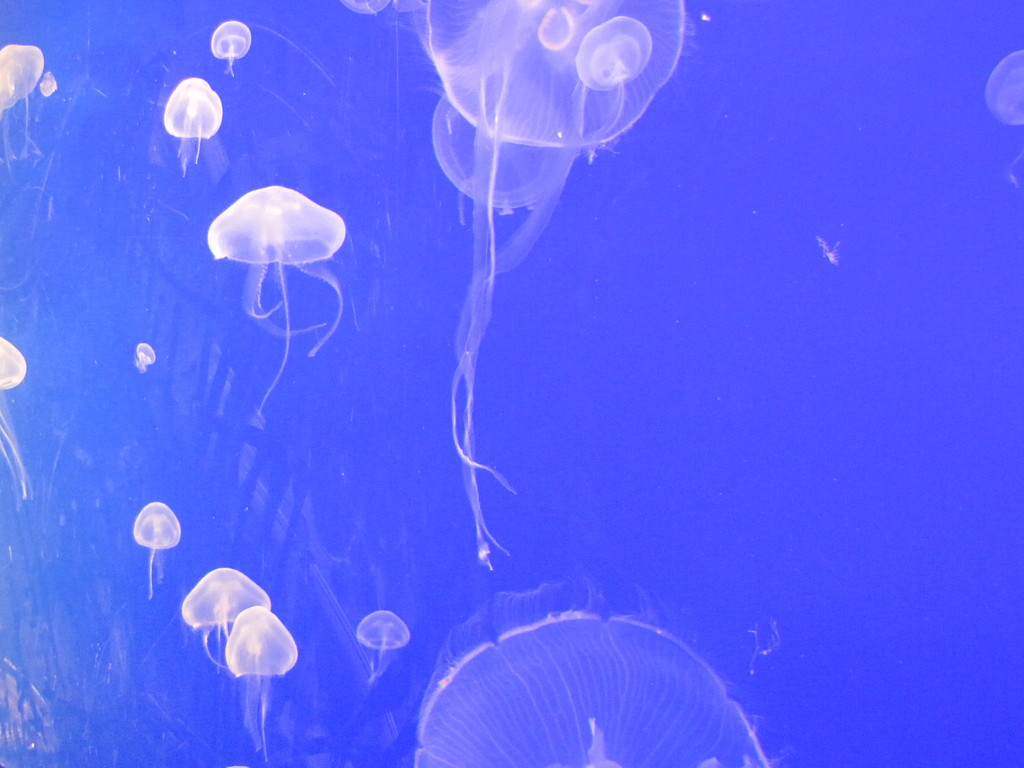Jellyfish: (385, 0, 699, 570), (416, 574, 774, 767), (208, 184, 351, 417), (225, 606, 295, 760), (181, 568, 272, 674), (162, 80, 223, 173), (0, 46, 48, 152), (352, 609, 417, 687), (0, 327, 27, 506), (128, 501, 181, 592), (211, 18, 254, 76), (133, 341, 154, 373)
